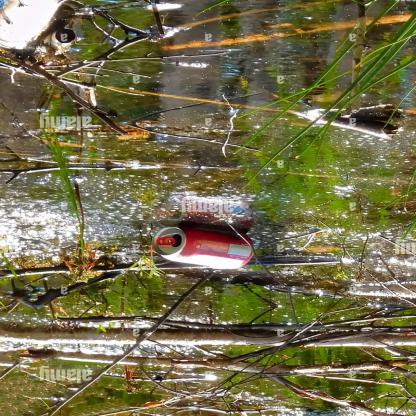Metal: (149, 224, 254, 272)
